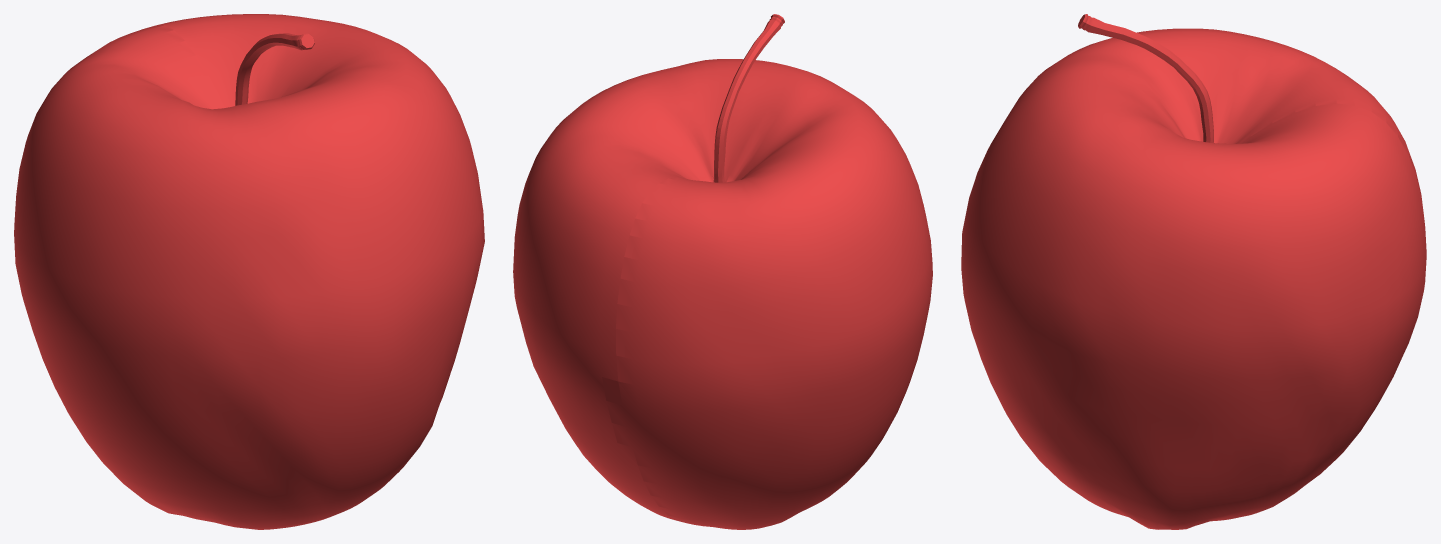
File: applered.fbx
The picture shows the model from 3 angles, left to right: view 1: azimuth 30°, elevation 25°; view 2: azimuth 150°, elevation 25°; view 3: azimuth 270°, elevation 25°; orthographic projection. The views are drawn at different scales.
Parts seen in each view (by area): view 1: apple_skin, apple_stem; view 2: apple_skin, apple_stem; view 3: apple_skin, apple_stem.
Part boxes in pixels (bbox=[...]): apple_skin: bbox=[14, 14, 484, 529]; apple_stem: bbox=[235, 33, 314, 105]; apple_skin: bbox=[513, 59, 932, 529]; apple_stem: bbox=[713, 14, 784, 182]; apple_skin: bbox=[961, 28, 1426, 529]; apple_stem: bbox=[1078, 14, 1213, 142].
Size of the model in its own units: 65.38 by 79.92 by 68.94.
